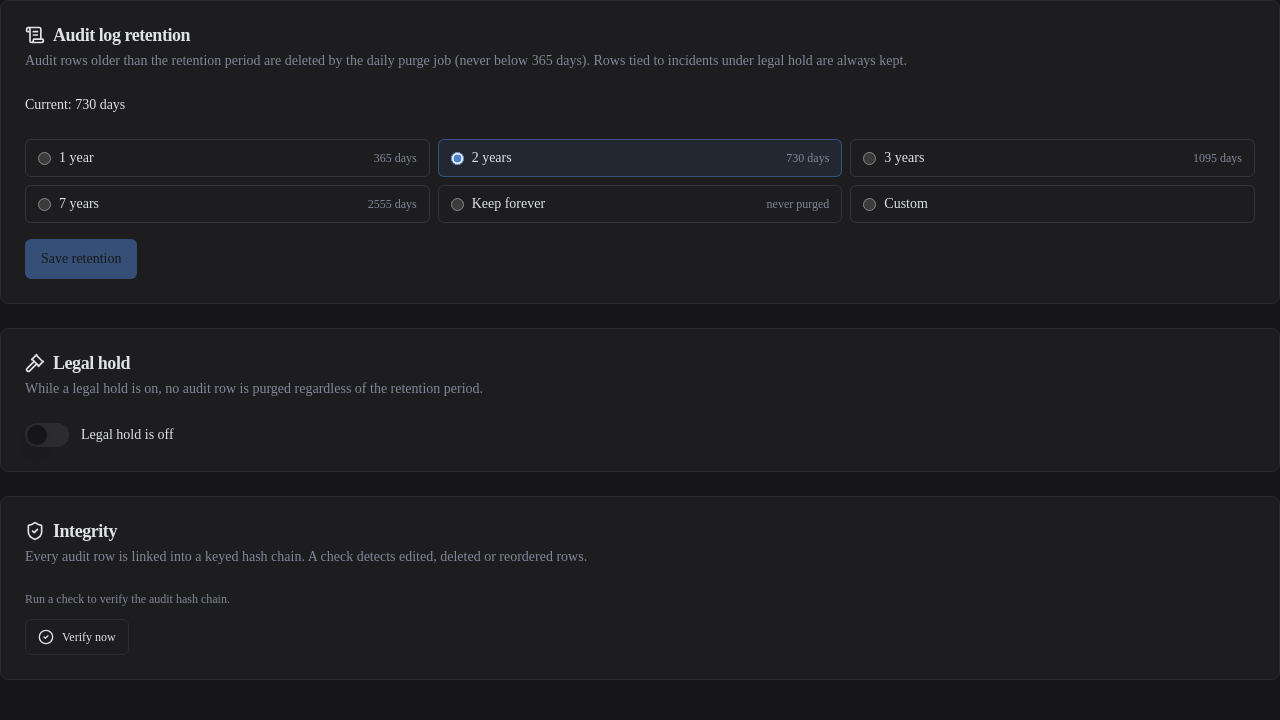
it: AuditRetentionTab: integrity › runs the chain check and shows the result
The image size is (1280, 720).
Expected: the heading "Audit log retention" is shown, top-left (25, 25), bottom-right (190, 45)
Click the button "Verify now" at (77, 637), box top-left (25, 619), bottom-right (129, 655)
(page scrolled)
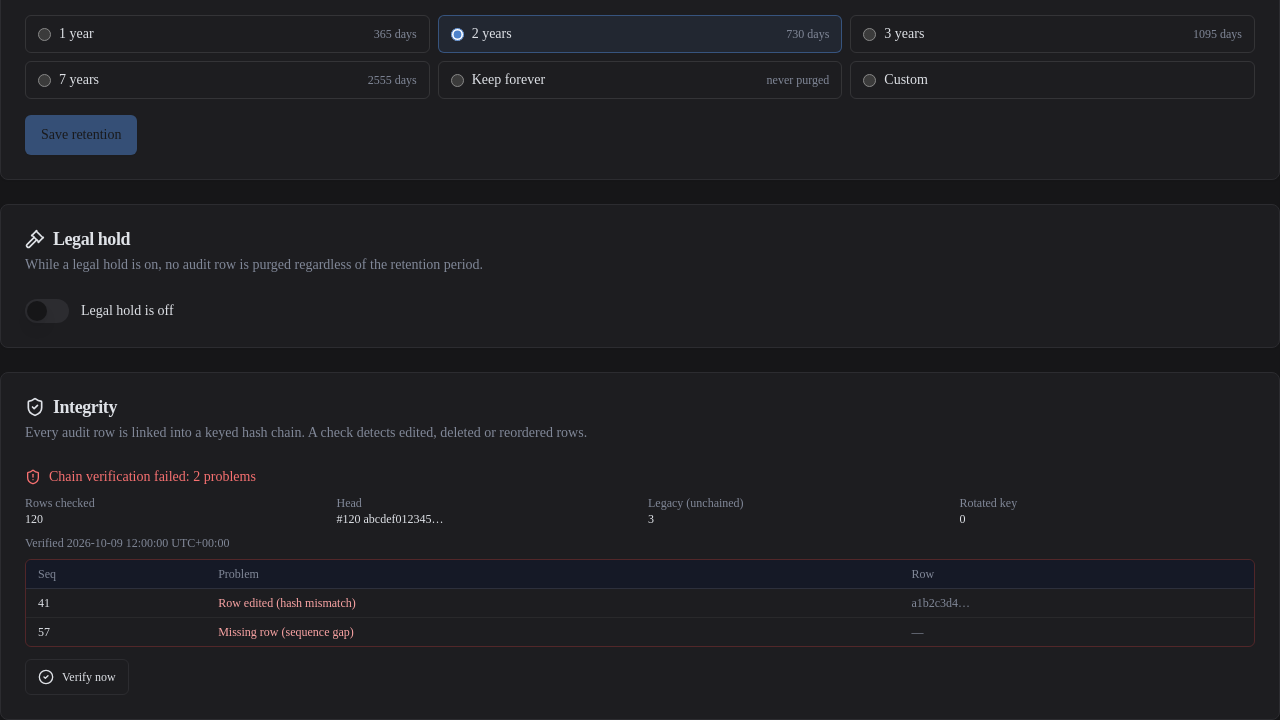
Now the text "Chain verification failed: 2 problems" is shown, box top-left (49, 467), bottom-right (256, 487)
Now the text "Row edited (hash mismatch)" is shown, box top-left (206, 588), bottom-right (899, 618)
Now the text "Missing row (sequence gap)" is shown, box top-left (206, 618), bottom-right (899, 646)
